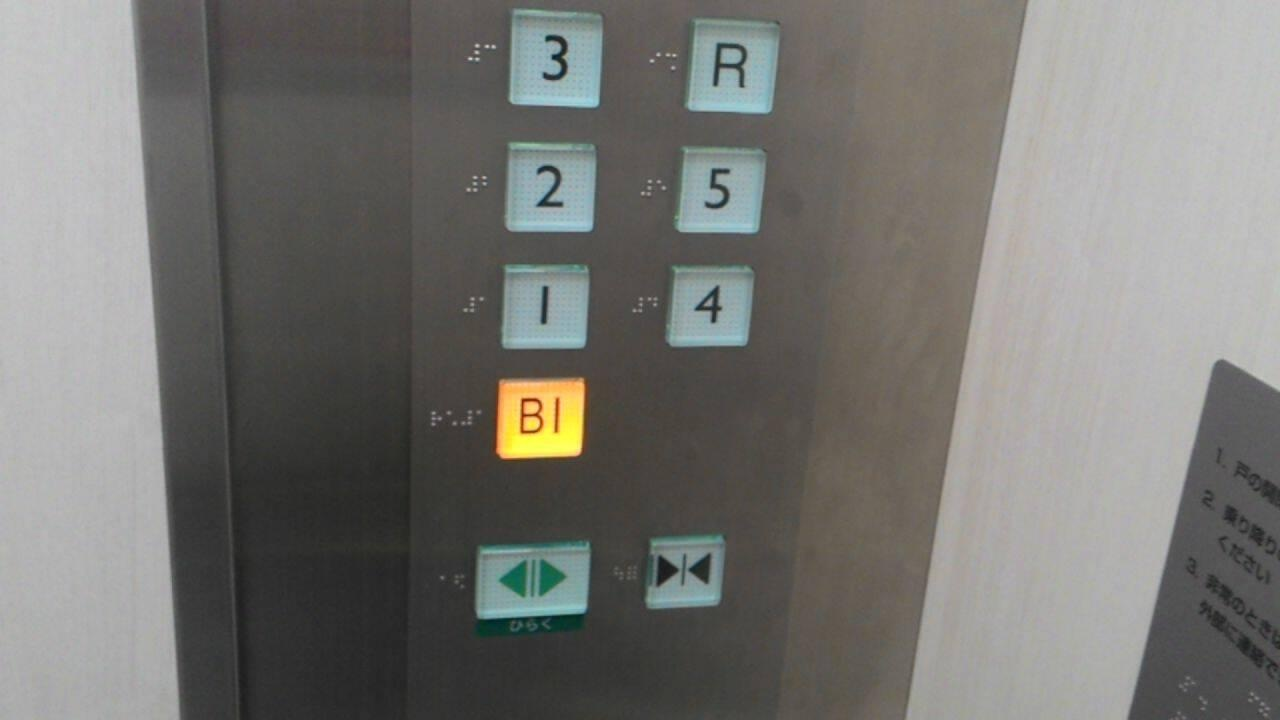1: (496, 259, 594, 353)
2: (499, 137, 601, 236)
3: (504, 2, 606, 115)
4: (663, 260, 758, 353)
5: (671, 141, 770, 238)
B1: (491, 370, 589, 463)
R: (681, 12, 784, 119)
close: (641, 531, 729, 615)
open: (469, 537, 597, 623)
